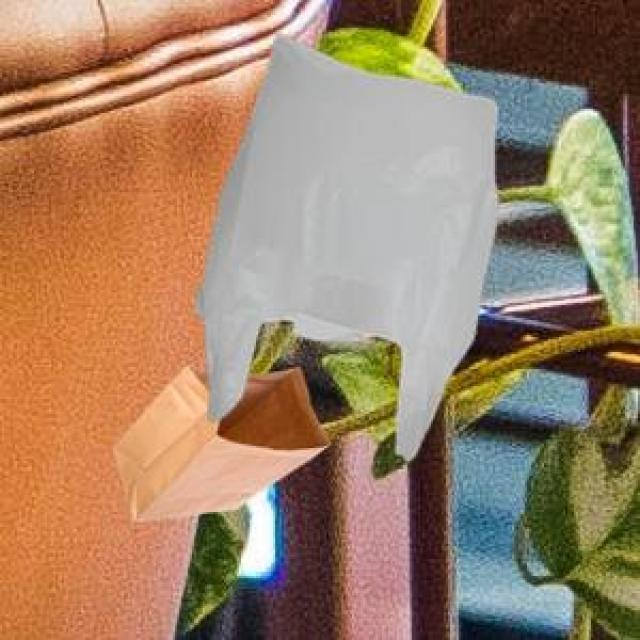paper: (111, 363, 326, 516)
